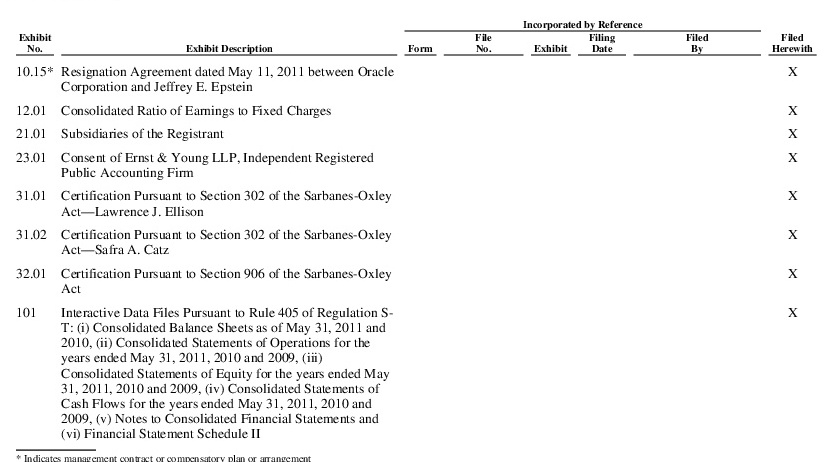table: (0, 0, 840, 462)
